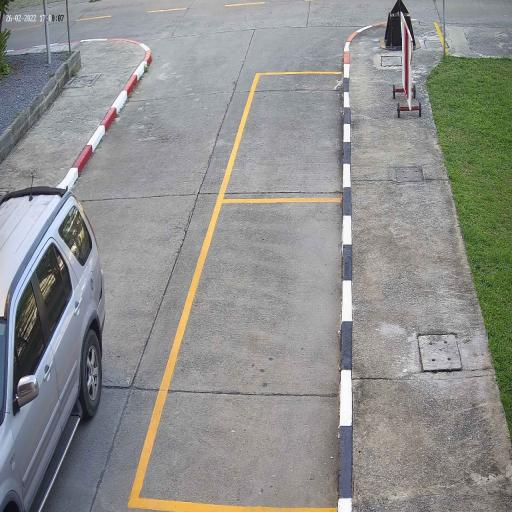car: (0, 185, 105, 512)
